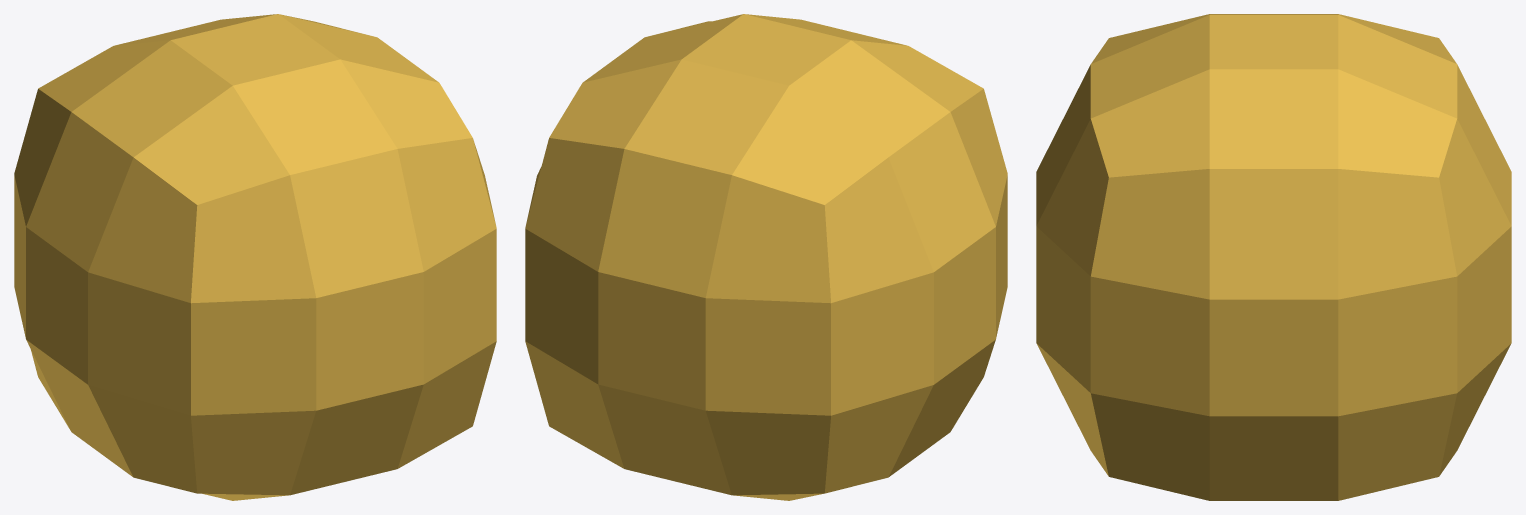
Rendered from normal_score.fbx.
3 views of the same model, side by side, from view 1: azimuth 30°, elevation 25°; view 2: azimuth 150°, elevation 25°; view 3: azimuth 270°, elevation 25° (orthographic). The views are drawn at different scales.
Visible parts, largest first — view 1: Cube; view 2: Cube; view 3: Cube.
Part boxes in pixels (box(x1,y1,x2,y2)): Cube: box(14, 14, 496, 500); Cube: box(525, 14, 1007, 500); Cube: box(1036, 14, 1511, 500).
Bounding box in the file's own units: 200 × 200 × 200.
